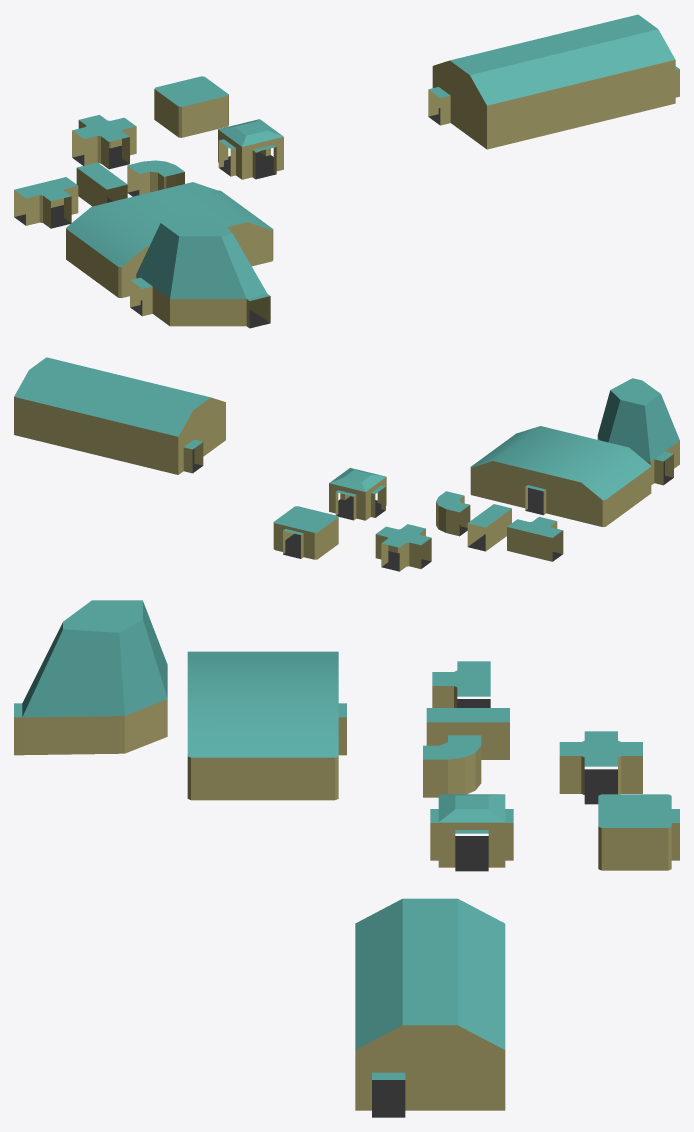
File: Rooms.FBX
The picture shows the model from 3 angles, top to bottom: view 1: azimuth 30°, elevation 25°; view 2: azimuth 150°, elevation 25°; view 3: azimuth 270°, elevation 25°; orthographic projection. The views are drawn at different scales.
Parts seen in each view (by area): view 1: Room02, Room03, Room05, Room04, Room01, corridorNESW, corridorESW, corridorNS, corridorSW; view 2: Room02, Room05, Room03, Room04, Room01, corridorNESW, corridorESW, corridorNS, corridorSW; view 3: Room02, Room05, Room03, Room04, Room01, corridorNESW, corridorSW, corridorNS, corridorESW.
Part boxes in pixels (x1,y1,x2,y2): Room02: [428, 14, 679, 149]; Room03: [130, 216, 270, 328]; Room05: [66, 182, 273, 297]; Room04: [154, 76, 228, 137]; Room01: [218, 119, 283, 179]; corridorNESW: [72, 115, 136, 169]; corridorESW: [14, 177, 78, 228]; corridorNS: [76, 162, 127, 206]; corridorSW: [127, 160, 184, 196]; Room02: [14, 357, 225, 474]; Room05: [470, 426, 651, 526]; Room03: [597, 378, 679, 485]; Room04: [273, 506, 338, 559]; Room01: [329, 468, 386, 520]; corridorNESW: [375, 524, 431, 571]; corridorESW: [507, 516, 563, 561]; corridorNS: [467, 504, 511, 551]; corridorSW: [436, 491, 470, 536]; Room02: [355, 898, 505, 1117]; Room05: [187, 651, 346, 800]; Room03: [14, 600, 167, 755]; Room04: [598, 794, 679, 870]; Room01: [430, 794, 513, 871]; corridorNESW: [559, 731, 642, 804]; corridorSW: [423, 735, 481, 797]; corridorNS: [426, 708, 509, 759]; corridorESW: [432, 661, 490, 707].
Bounding box in the file's own units: 600 × 74.49 × 400.
